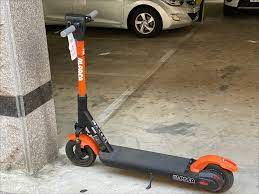kick_board: (59, 9, 238, 194)
kick_body: (106, 147, 186, 172)
kick_handler: (62, 10, 98, 39)
kick_neck: (76, 42, 93, 126)
kick_wheel: (199, 154, 238, 193), (64, 133, 96, 166)
